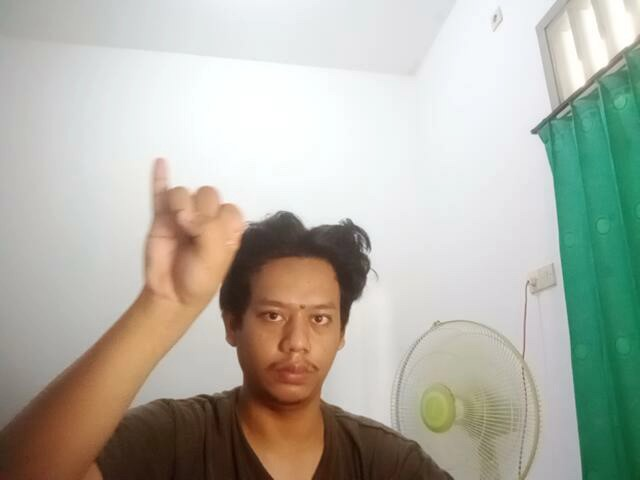I: (126, 149, 249, 320)
